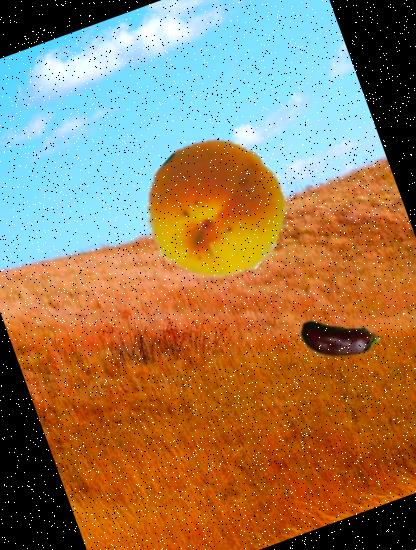Eggplant: (286, 286, 395, 394)
Peach: (126, 120, 305, 299)
